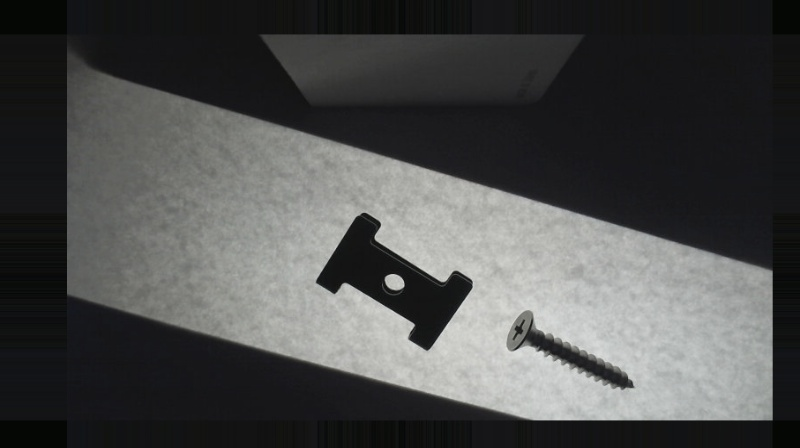O002: (315, 213, 475, 350)
S001: (506, 308, 636, 393)
